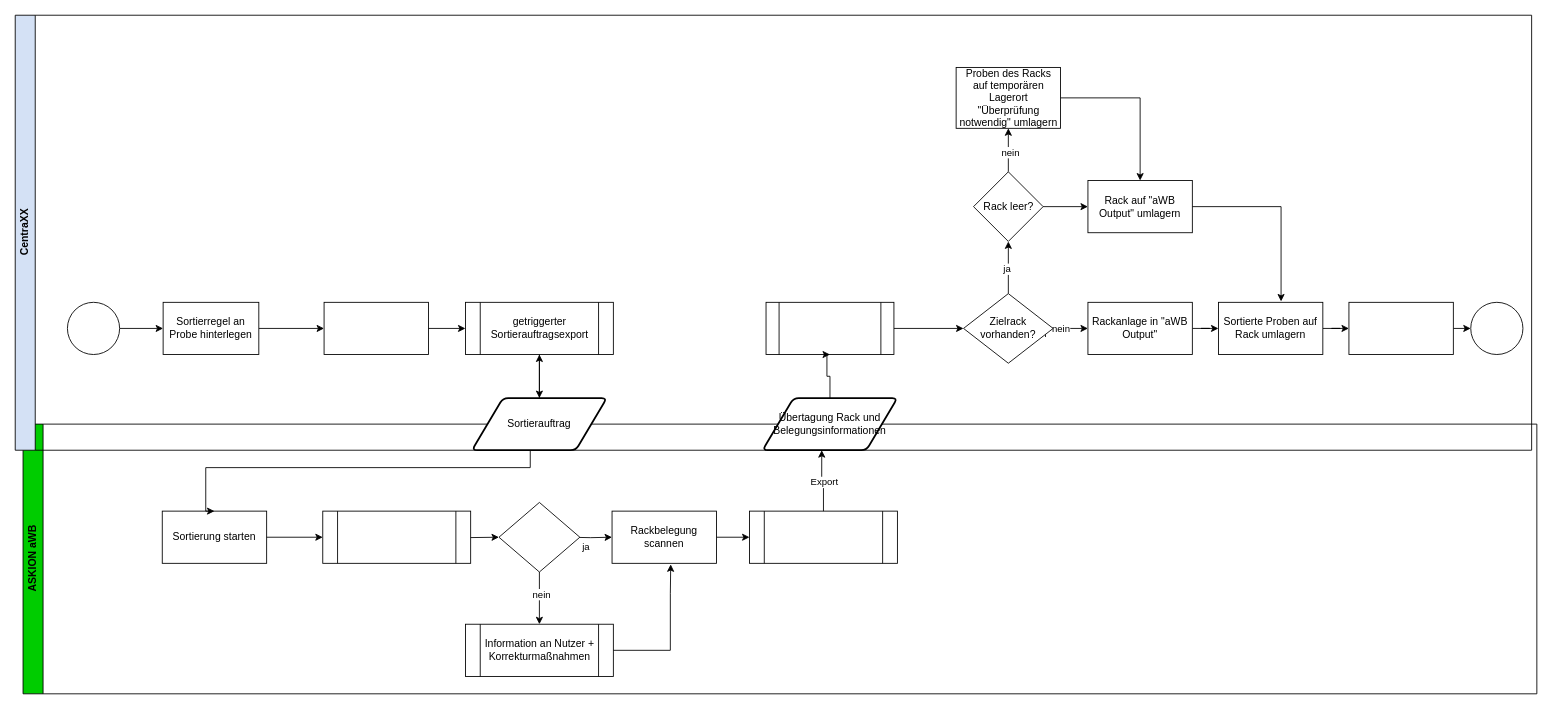
This 1552x709 diagram has some shape labels left out. The shapes that lost their labels are listed below. From the top down, each one's centre as x and y in pixels, then its label:
pixel 93 328: Start
pixel 375 328: Rack auf Lagerort "aWB input" umlagern
pixel 829 328: Datenüberprüfung
pixel 1400 328: Sortierregel entfernen
pixel 1496 328: Ende
pixel 396 536: Sortierung durchführen
pixel 539 537: Sortierung erfolgreich?
pixel 823 536: Exportdaten zusammenstellen
